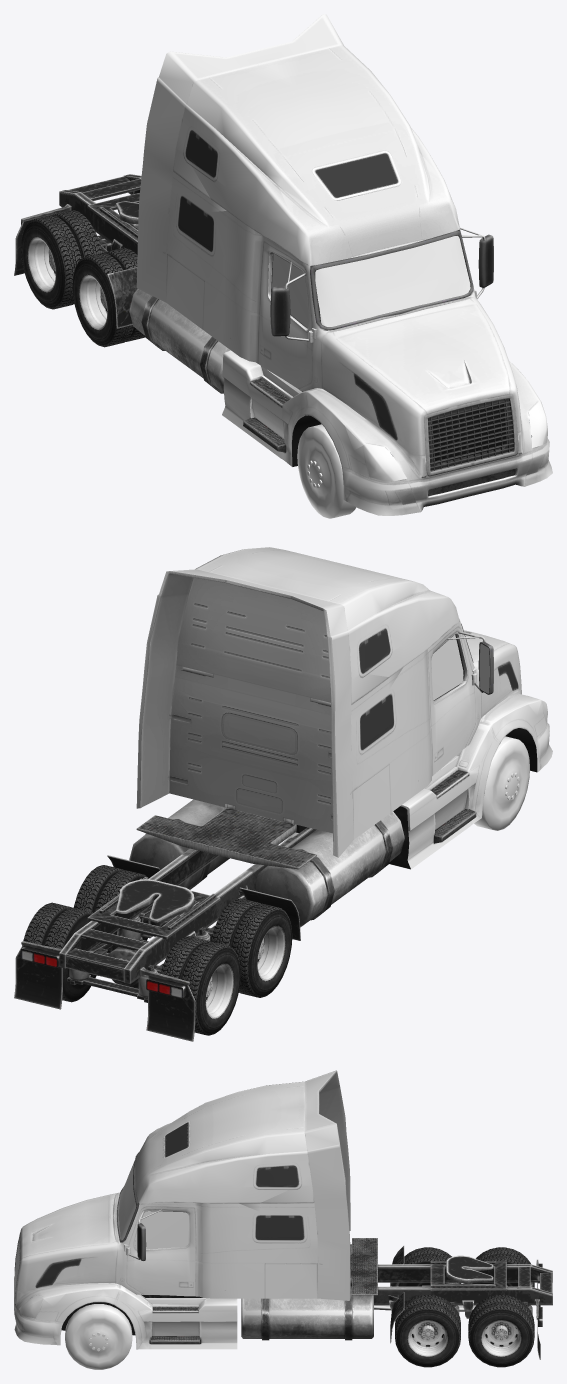
File: volvo-vnl-780.glb
3 views of the same model, one above another, from view 1: azimuth 30°, elevation 25°; view 2: azimuth 150°, elevation 25°; view 3: azimuth 270°, elevation 25° (orthographic). The views are drawn at different scales.
Visible parts, largest first — view 1: body_low_2, Object023_volvo_vnl_text_0, Object022_glass_beffio_4_0, rear_low_0_19, rear_low_0_17, front_low0_9, glass_far_4; view 2: body_low_2, Object023_volvo_vnl_text_0, rear_low_0_17, rear_low_0_19, front_low0_9, rear_low_0_18, rear_low_0_16, Object022_glass_beffio_4_0; view 3: body_low_2, Object023_volvo_vnl_text_0, rear_low_0_18, rear_low_0_16, front_low0_8, Object022_glass_beffio_4_0, rear_low_0_17, rear_low_0_19.
Boxes of the visible parts, x1=… form: body_low_2: x1=136, y1=14, x2=552, y2=515; Object023_volvo_vnl_text_0: x1=14, y1=130, x2=531, y2=496; Object022_glass_beffio_4_0: x1=272, y1=236, x2=470, y2=327; rear_low_0_19: x1=21, y1=210, x2=102, y2=309; rear_low_0_17: x1=72, y1=247, x2=145, y2=347; front_low0_9: x1=297, y1=424, x2=356, y2=518; glass_far_4: x1=363, y1=401, x2=547, y2=481; body_low_2: x1=136, y1=547, x2=552, y2=869; Object023_volvo_vnl_text_0: x1=14, y1=623, x2=537, y2=1041; rear_low_0_17: x1=210, y1=898, x2=292, y2=997; rear_low_0_19: x1=160, y1=936, x2=240, y2=1035; front_low0_9: x1=474, y1=736, x2=529, y2=830; rear_low_0_18: x1=22, y1=902, x2=101, y2=1002; rear_low_0_16: x1=73, y1=865, x2=152, y2=953; Object022_glass_beffio_4_0: x1=431, y1=635, x2=463, y2=699; body_low_2: x1=14, y1=1070, x2=350, y2=1349; Object023_volvo_vnl_text_0: x1=14, y1=1122, x2=552, y2=1359; rear_low_0_18: x1=468, y1=1295, x2=534, y2=1367; rear_low_0_16: x1=395, y1=1295, x2=460, y2=1367; front_low0_8: x1=65, y1=1304, x2=132, y2=1369; Object022_glass_beffio_4_0: x1=118, y1=1162, x2=188, y2=1249; rear_low_0_17: x1=398, y1=1247, x2=460, y2=1286; rear_low_0_19: x1=472, y1=1247, x2=534, y2=1287.
Size of the model in its own units: 2.98 by 4.32 by 8.78.
Materials: 3 (2 with a texture image).
